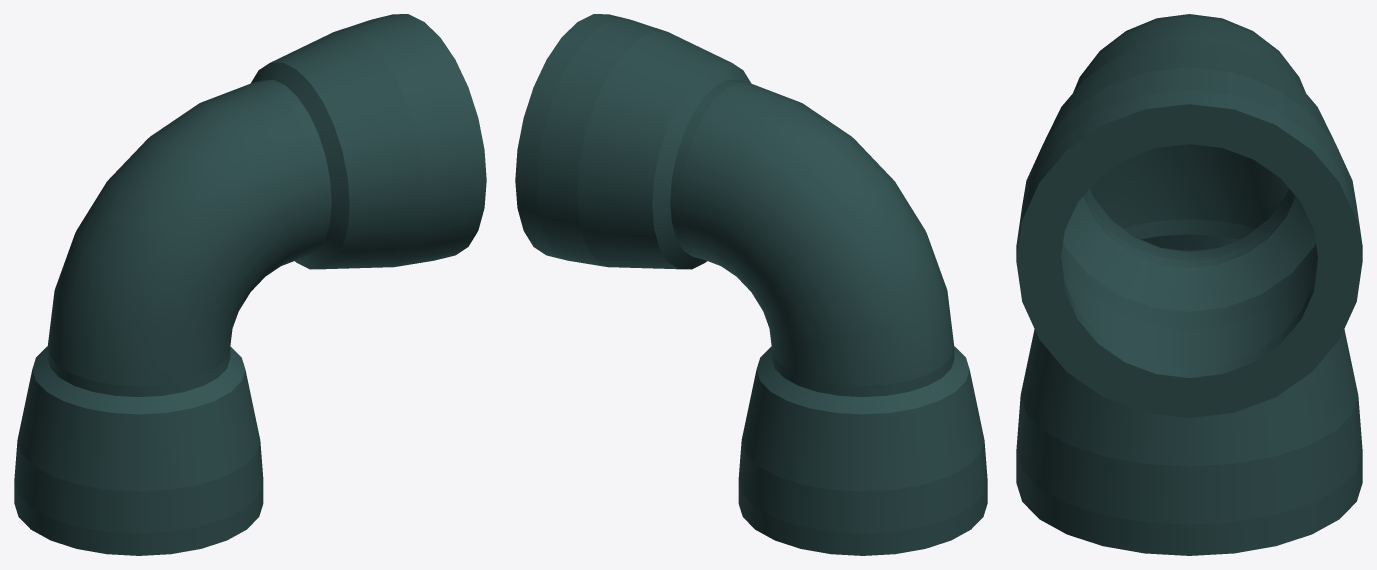
The model's file is DSBEND.glb.
The picture shows the model from 3 angles, left to right: view 1: azimuth 30°, elevation 25°; view 2: azimuth 150°, elevation 25°; view 3: azimuth 270°, elevation 25°; orthographic projection. The views are drawn at different scales.
Visible parts, largest first — view 1: RFMMQ-1090TYP04(400); view 2: RFMMQ-1090TYP04(400); view 3: RFMMQ-1090TYP04(400).
Boxes of the visible parts, x1,y1,x2,y2 form: RFMMQ-1090TYP04(400): (14,14,486,555); RFMMQ-1090TYP04(400): (515,14,987,555); RFMMQ-1090TYP04(400): (1016,14,1362,555).
Size of the model in its own units: 0.2935 by 0.2935 by 0.161.
